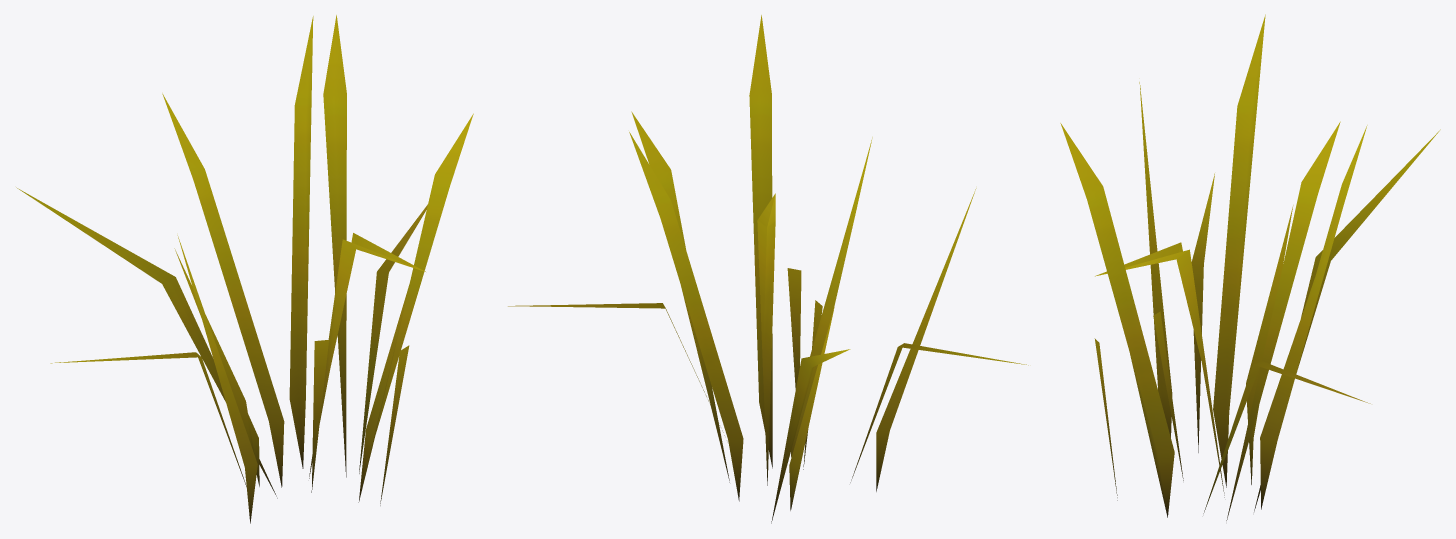
Rendered from grass-3.glb.
3 renders of one model, left to right at view 1: azimuth 30°, elevation 25°; view 2: azimuth 150°, elevation 25°; view 3: azimuth 270°, elevation 25°, orthographic. The views are drawn at different scales.
Visible parts, largest first — view 1: Grass_Wispy_Short; view 2: Grass_Wispy_Short; view 3: Grass_Wispy_Short.
Boxes of the visible parts, x1,y1,x2,y2 form: Grass_Wispy_Short: (16, 15, 473, 523); Grass_Wispy_Short: (508, 15, 1028, 523); Grass_Wispy_Short: (1060, 14, 1440, 520).
Size of the model in its own units: 0.2822 by 0.2489 by 0.193.
Materials: 1 (1 with a texture image).
